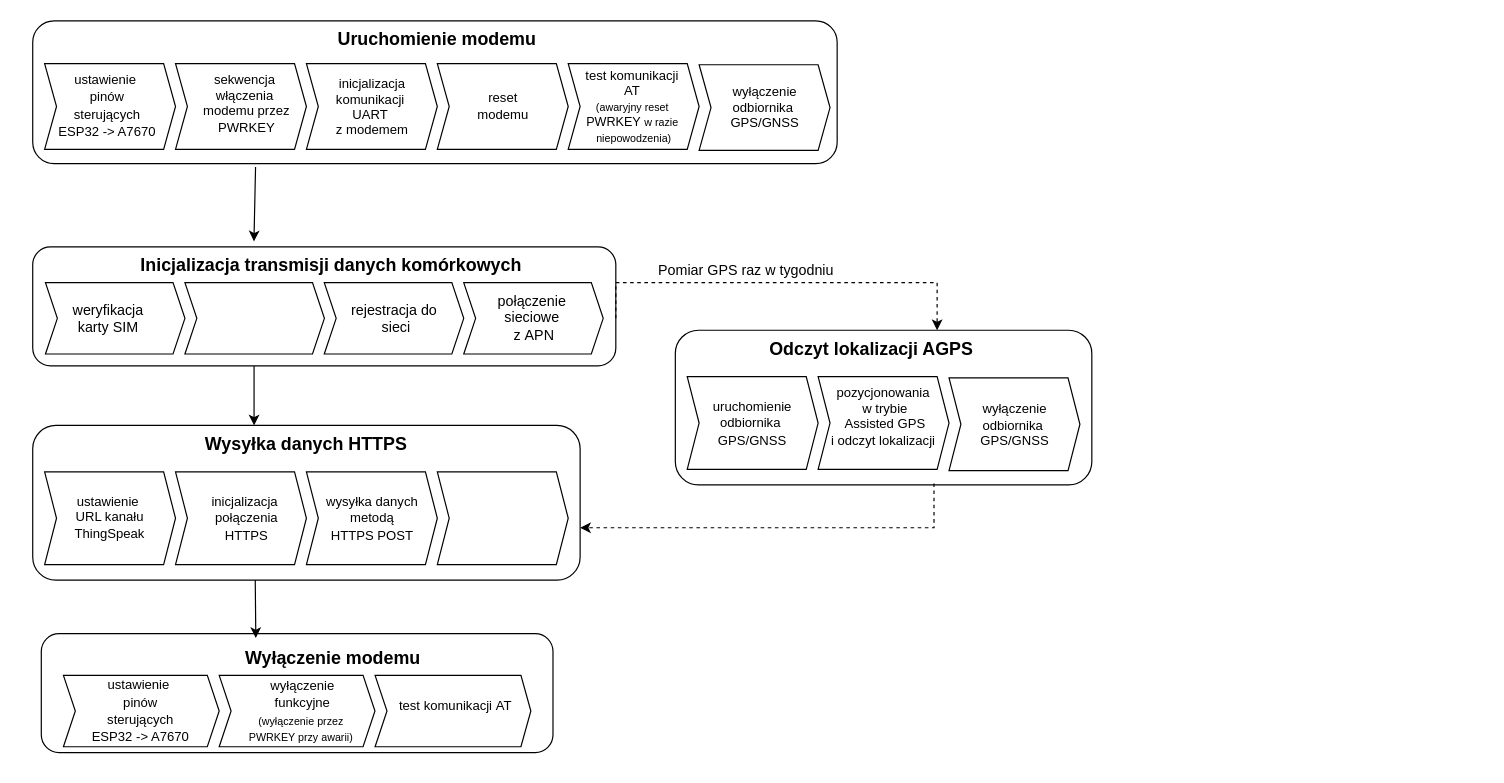
The diagram is 1504 pixels wide and 783 high, and some of its shapes have lost their labels. Each missing label, with the centre of its shape:
analiza odpowiedzi serwera: point (502, 518)
ustawienie APN "iot": point (254, 317)
